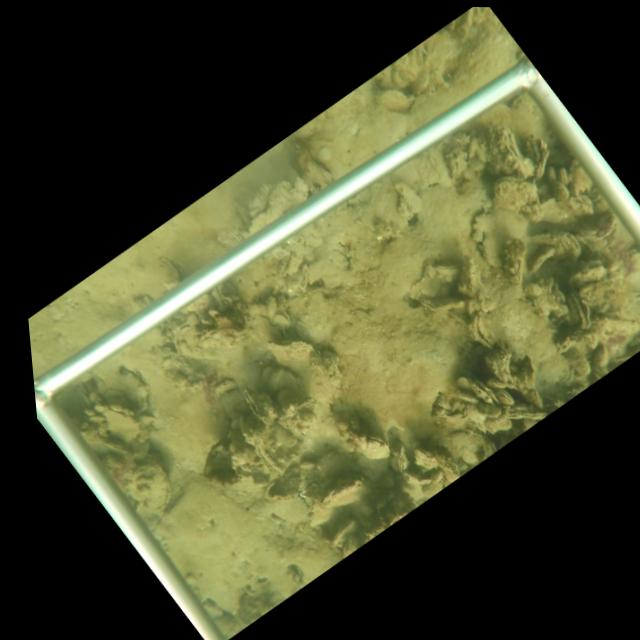Oyster-Closed: (127, 456, 174, 512), (326, 479, 369, 509), (328, 518, 358, 550), (594, 212, 616, 242), (417, 294, 444, 313), (432, 259, 462, 276), (553, 178, 572, 202), (507, 410, 548, 420), (103, 439, 132, 453), (493, 388, 516, 405), (212, 285, 229, 308), (105, 450, 123, 469), (399, 444, 410, 472), (456, 392, 481, 403), (546, 165, 558, 182), (558, 166, 569, 184), (433, 469, 444, 483)
Oyster-Indeterminate: (263, 338, 319, 378), (105, 406, 143, 441), (150, 254, 182, 290)
Oyster-Open: (245, 384, 278, 426), (467, 311, 498, 346), (468, 378, 500, 405), (357, 436, 392, 460), (568, 291, 587, 332)
